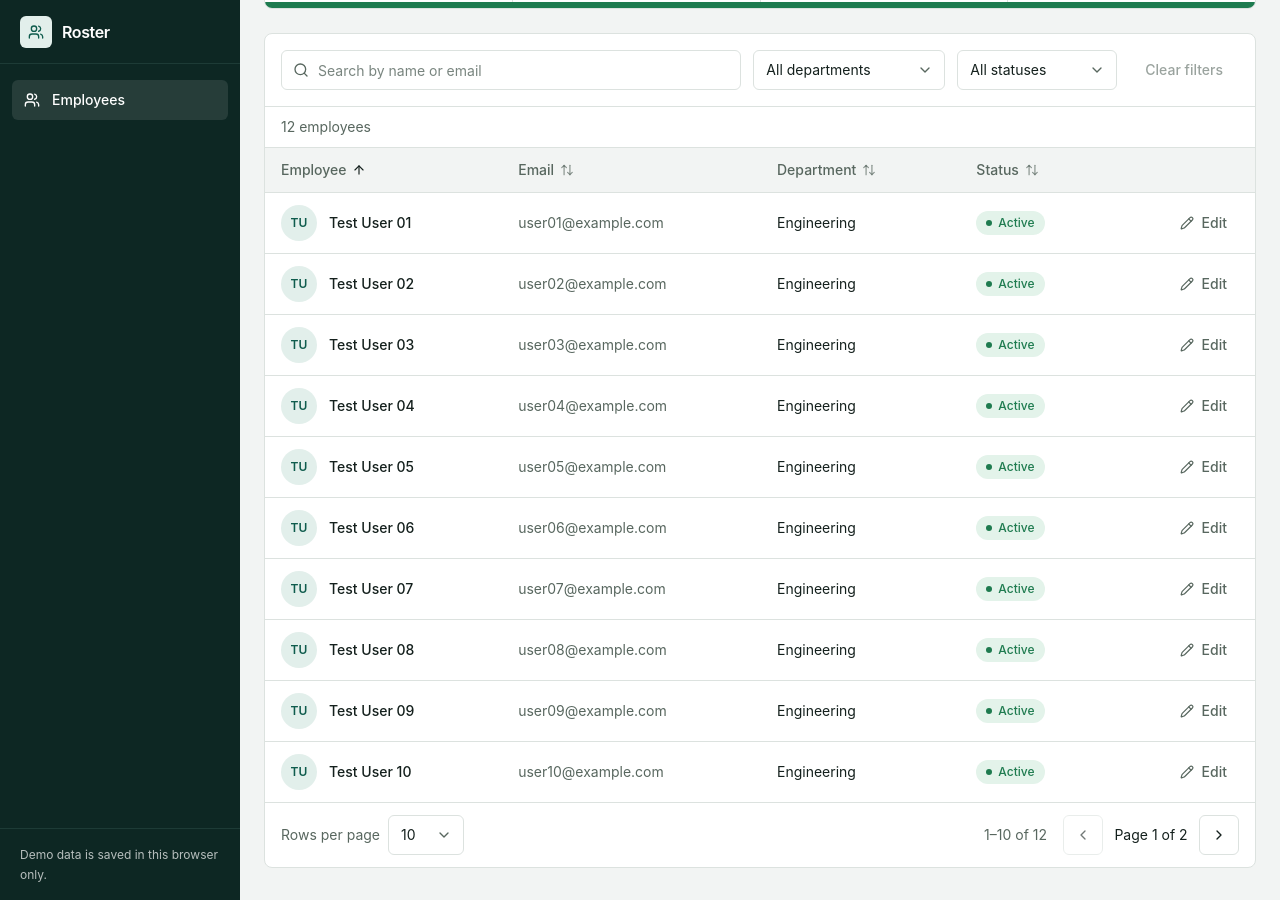
Scenario: EmployeesPage: sorting and pagination › paginates and returns to page 1 when the result set changes
(page scrolled)
Expected: the text "Test User 01" is shown, [329,213,411,233]
Expected: the text "Page 1 of 2" is shown, [1111,825,1191,845]
Step 1. Click the button named "Next page" → (1219, 835), box [1199,815,1239,855]
(page scrolled)
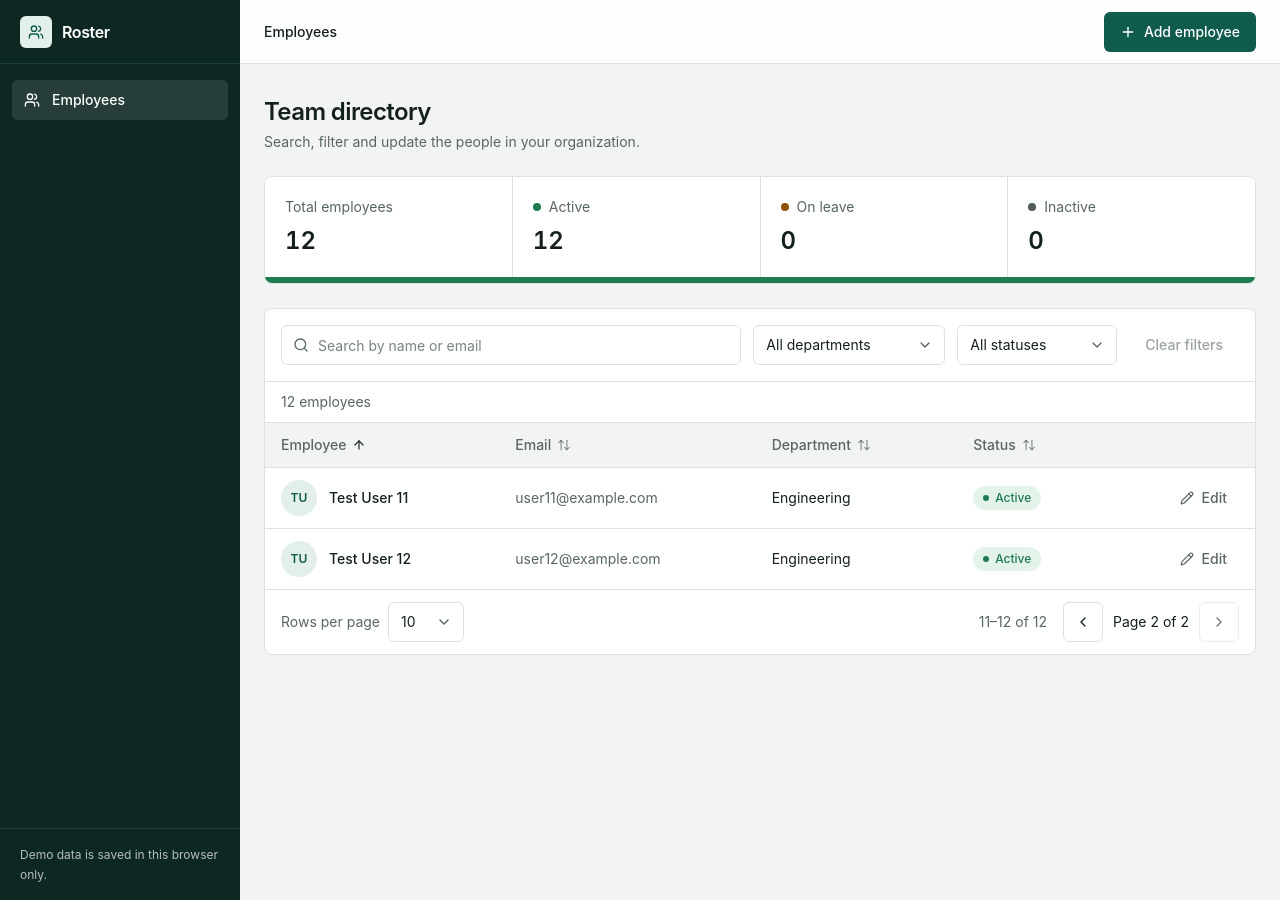
Expected: the text "Page 2 of 2" is shown, [1111,612,1191,632]
Expected: the text "Test User 01" is gone
Step 2. Type "user 1" into the search field named "Search employees" → (511, 345), box [281,325,741,365]
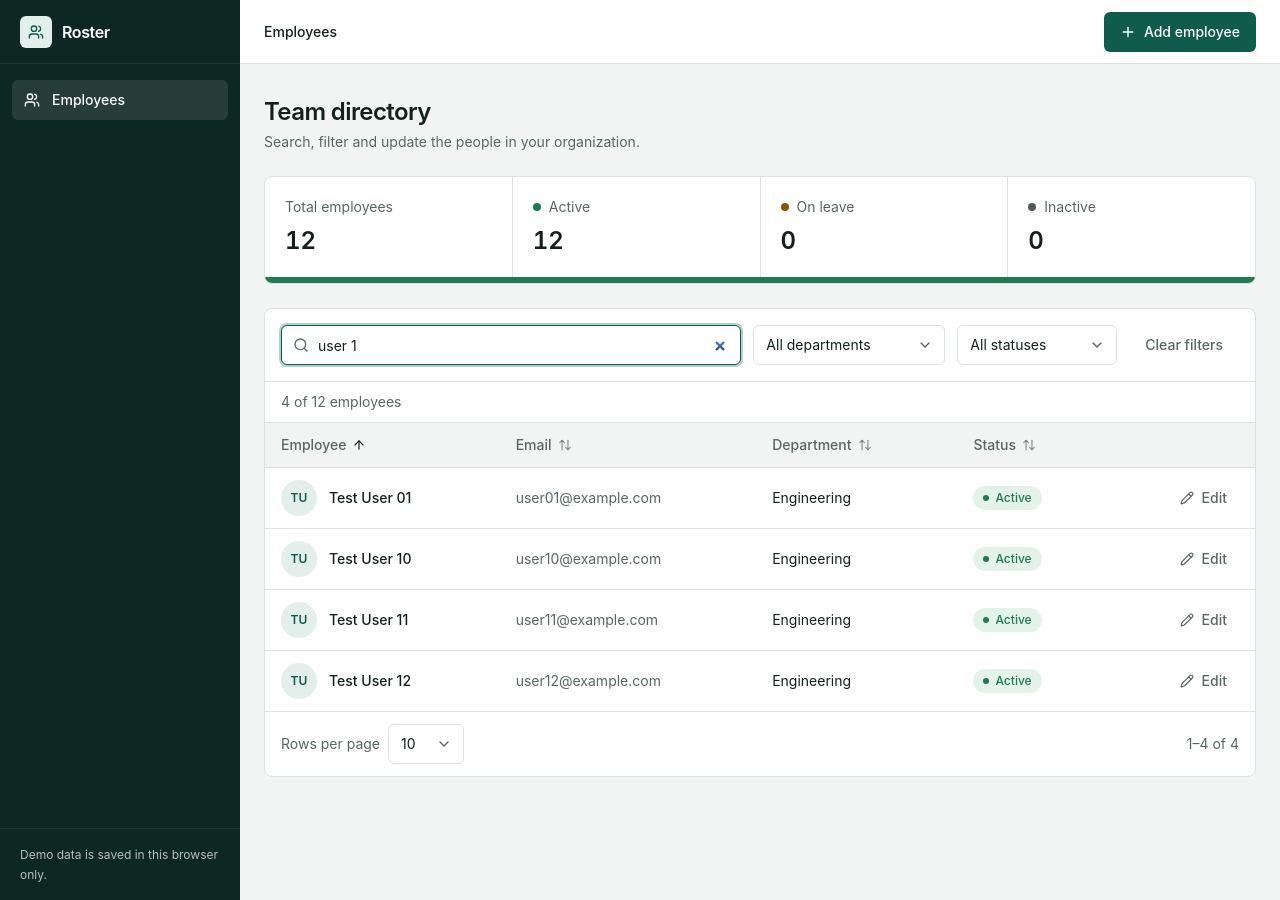
Expected: the text "Test User 01" is shown, [329,488,411,508]
Expected: the text "Page 2 of 2" is gone
